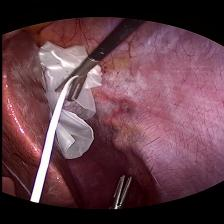Grasper: (52, 60, 96, 102), (106, 172, 136, 209)
Specimen Bag: (37, 40, 97, 159)
